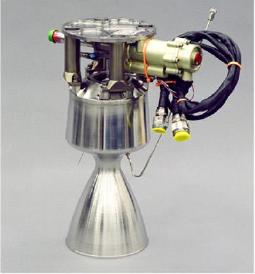thruster: (65, 158, 150, 257)
